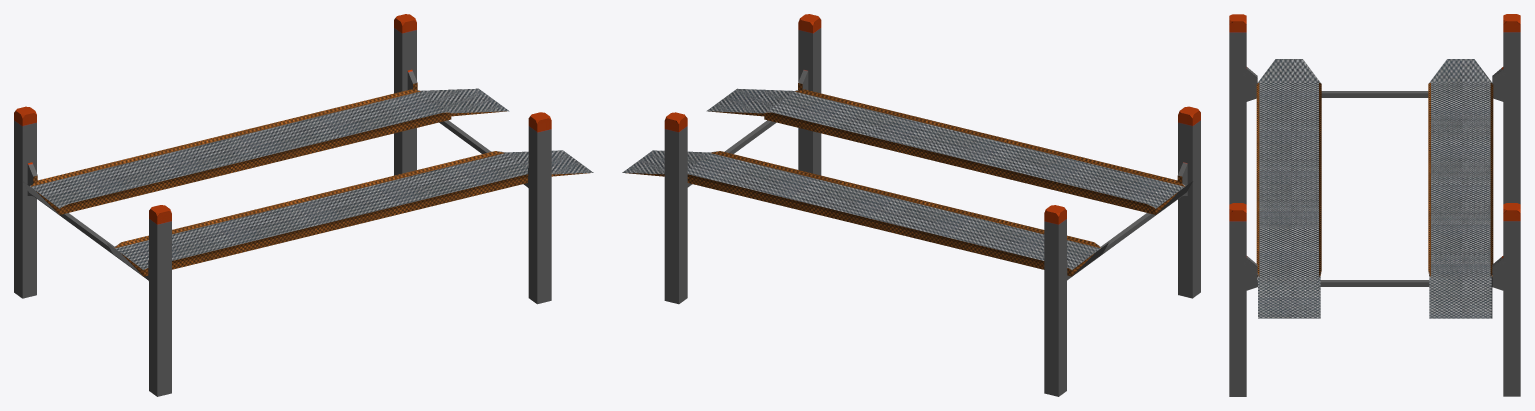
The model's file is Car Garage Mechanic - II.FBX.
3 renders of one model, left to right at view 1: azimuth 30°, elevation 25°; view 2: azimuth 150°, elevation 25°; view 3: azimuth 270°, elevation 25°, orthographic.
Visible parts, largest first — view 1: Box003; view 2: Box003; view 3: Box003.
Part boxes in pixels (left/top/right/bottom): Box003: left=14, top=14, right=593, bottom=396; Box003: left=622, top=14, right=1200, bottom=396; Box003: left=1229, top=14, right=1520, bottom=396.
Bounding box in the file's own units: 160 × 60 × 84.81.
1 material, 1 textured.
